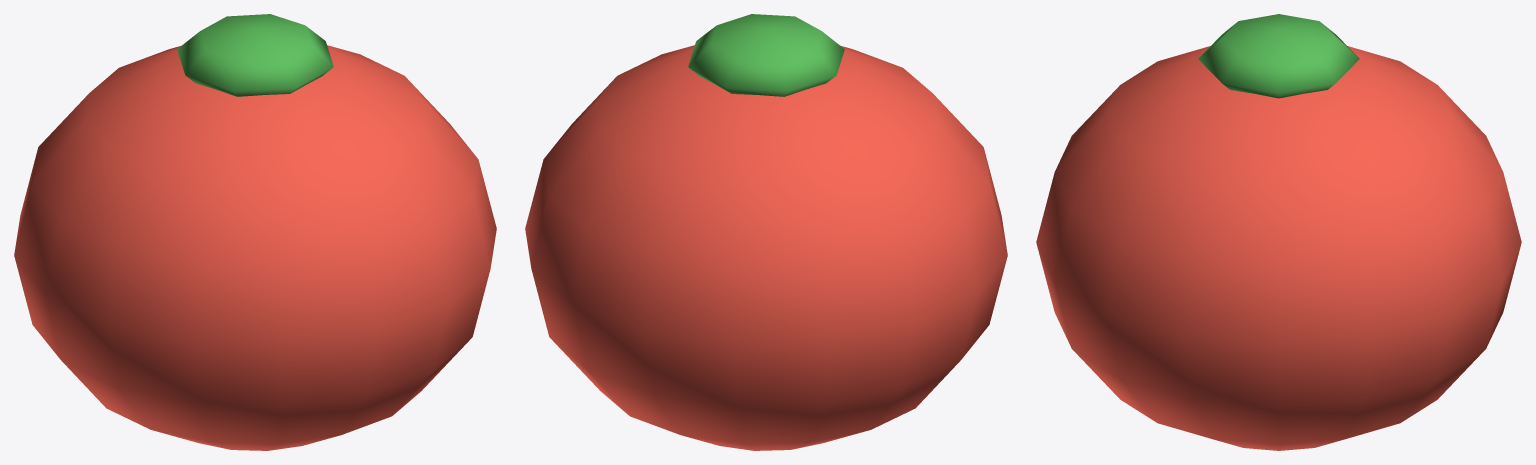
The model's file is tomato.fbx.
3 renders of one model, left to right at view 1: azimuth 30°, elevation 25°; view 2: azimuth 150°, elevation 25°; view 3: azimuth 270°, elevation 25°, orthographic.
Parts seen in each view (by area): view 1: tomato; view 2: tomato; view 3: tomato.
Part boxes in pixels (<box>): tomato: <box>14,14,496,450</box>; tomato: <box>525,14,1007,450</box>; tomato: <box>1036,14,1521,450</box>.
Bounding box in the file's own units: 0.12 × 0.108 × 0.12.
